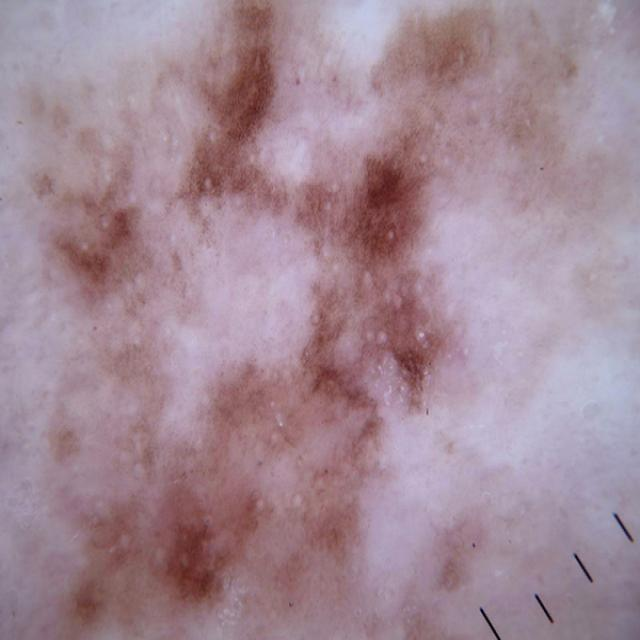Skin-Cancer Pigmented benign keratosis: (5, 4, 570, 624)
